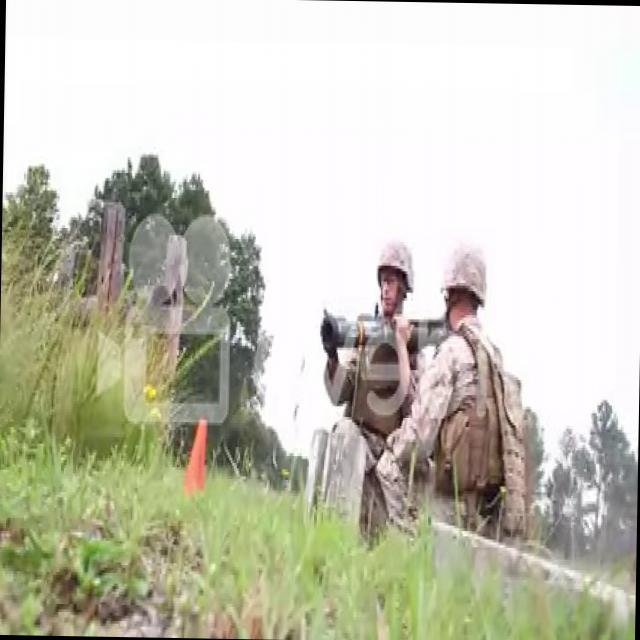rocket: (320, 310, 434, 360)
